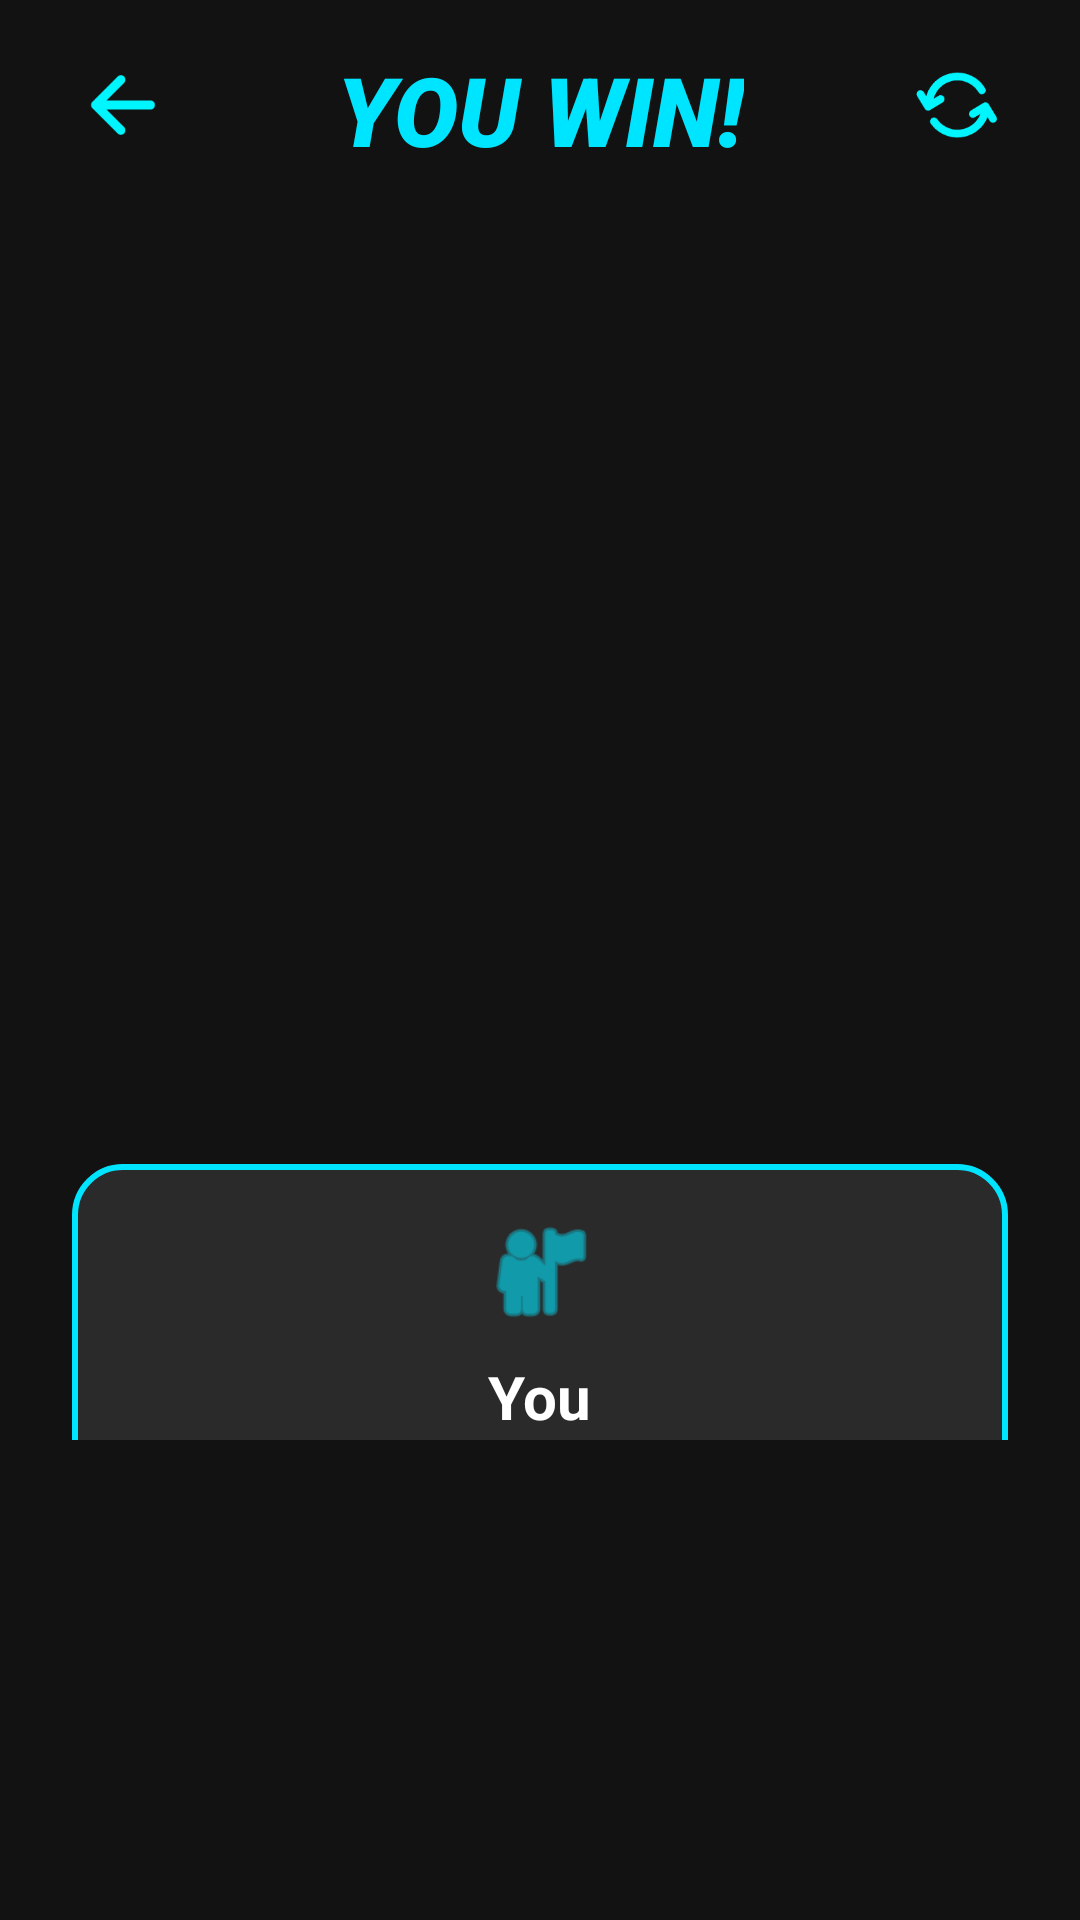

Point at icon controls on the screen. Image size 1080*1920, points as (x=x, y=y).
back: (x=123, y=105)
reset: (x=956, y=105)
